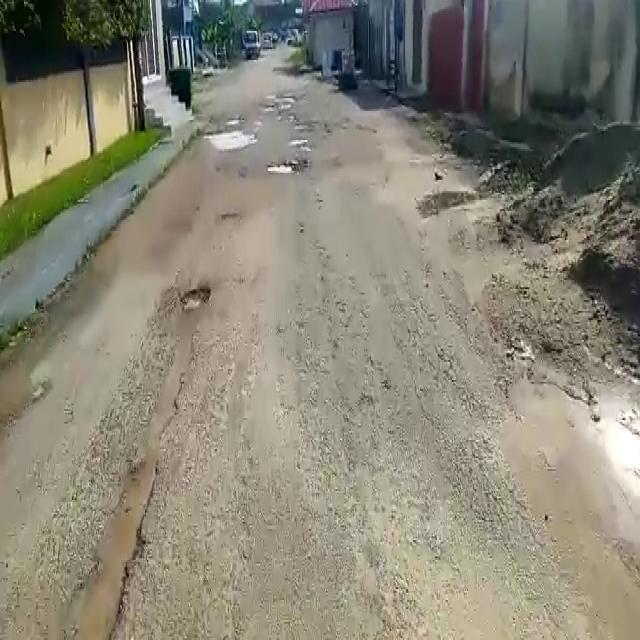Pothole: (205, 125, 259, 153), (180, 281, 212, 308), (266, 157, 304, 175)
